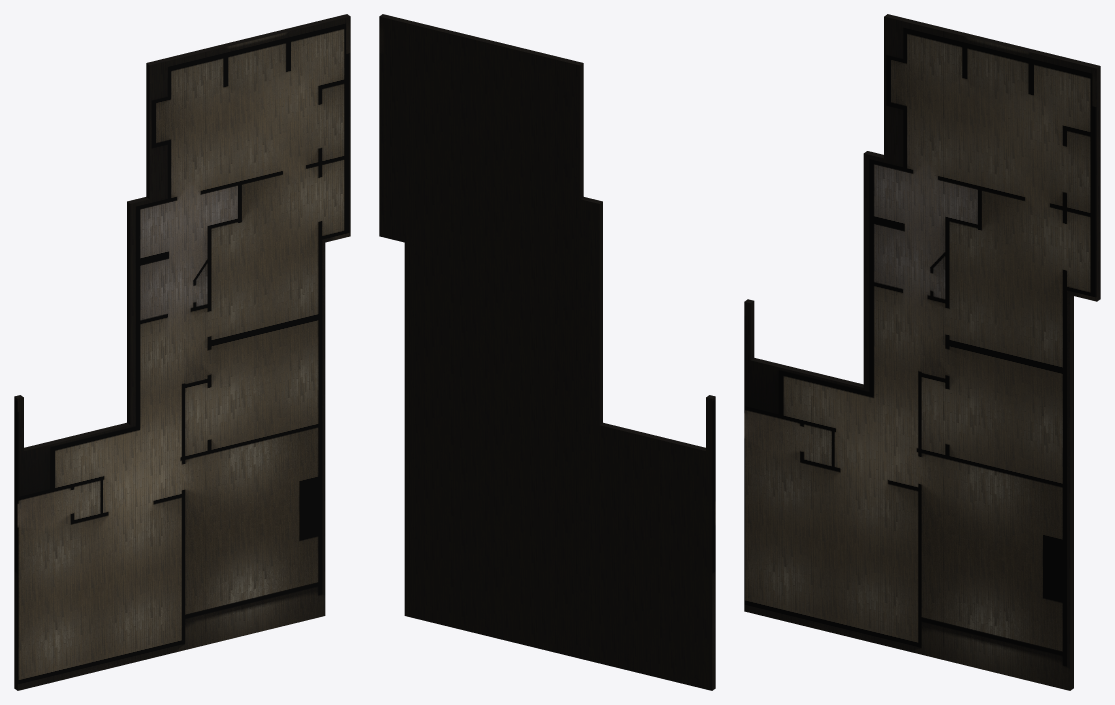
The model's file is floor_0_vm.obj.
3 views of the same model, side by side, from view 1: azimuth 30°, elevation 25°; view 2: azimuth 150°, elevation 25°; view 3: azimuth 330°, elevation 25° (orthographic). The views are drawn at different scales.
Size of the model in its own units: 10.1 by 17.2 by 0.18.
1 material, 1 textured.
